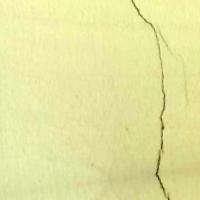crack: (129, 0, 191, 199)
